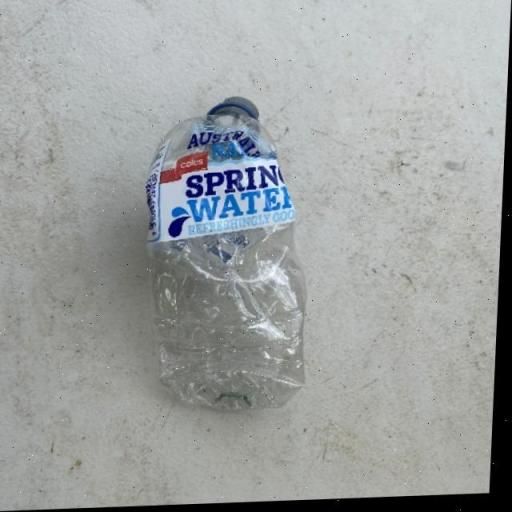plastic: (138, 94, 320, 417)
